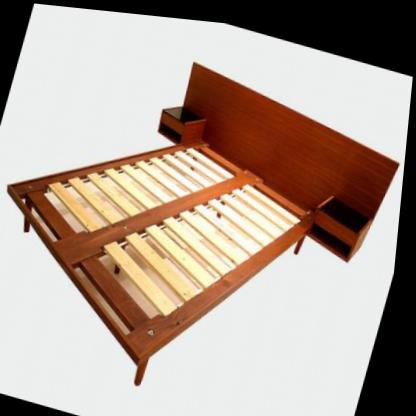Bed: (0, 15, 415, 416)
